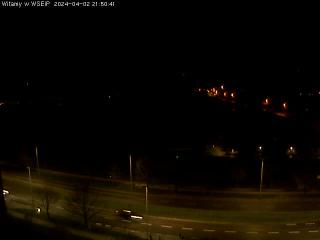car: (116, 207, 144, 220), (0, 188, 11, 198)
